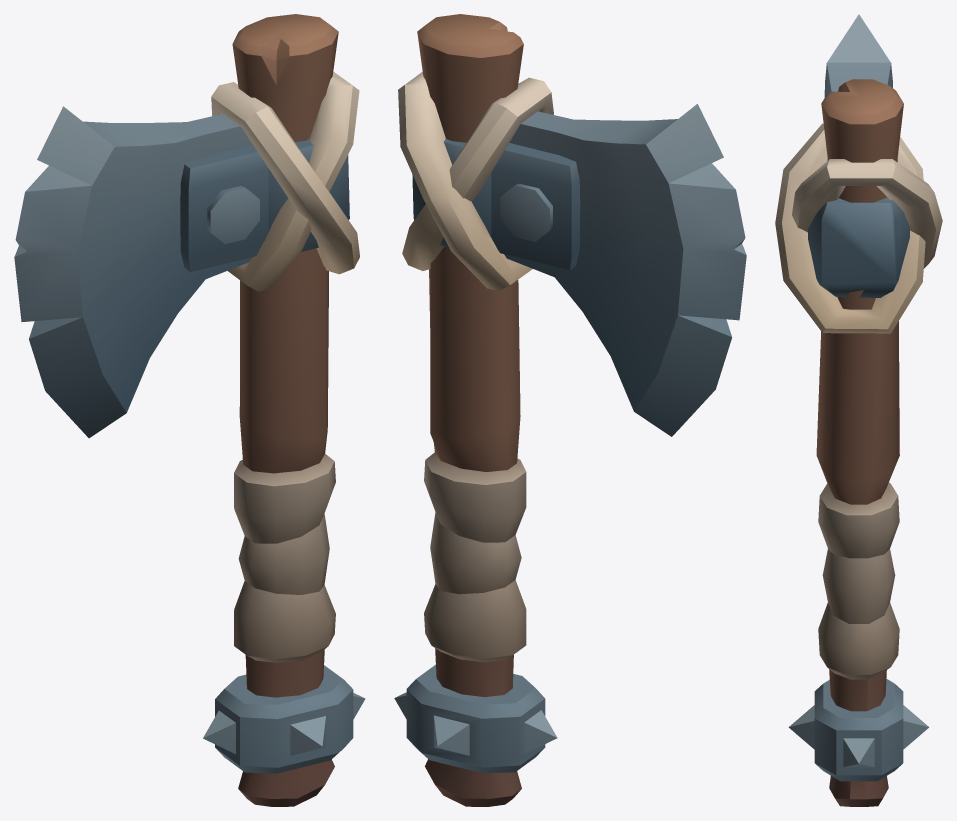
File: axe_A_Definitive_edition.fbx
3 views of the same model, side by side, from view 1: azimuth 30°, elevation 25°; view 2: azimuth 150°, elevation 25°; view 3: azimuth 270°, elevation 25° (orthographic). The views are drawn at different scales.
Visible parts, largest first — view 1: axe_A; view 2: axe_A; view 3: axe_A.
Part boxes in pixels (bbox=[...]): axe_A: bbox=[14, 14, 365, 806]; axe_A: bbox=[394, 14, 746, 806]; axe_A: bbox=[775, 14, 942, 806].
Bounding box in the file's own units: 0.5586 × 1.16 × 0.2504.
1 material, 1 textured.
